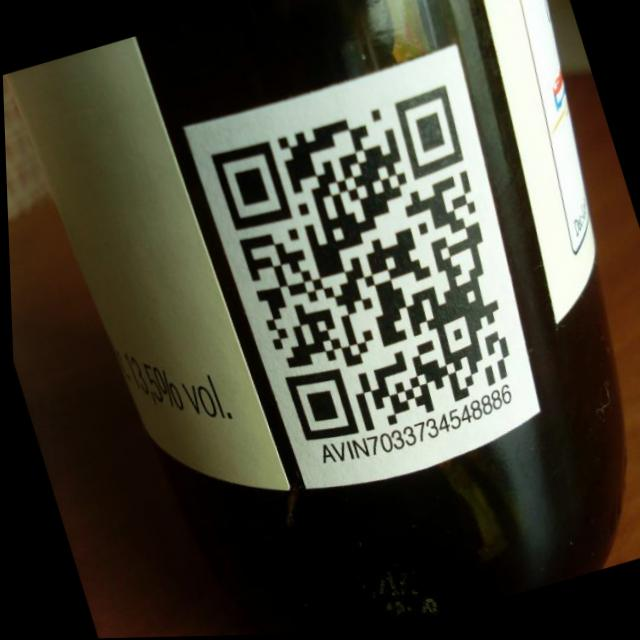qrcode: (209, 86, 535, 454)
